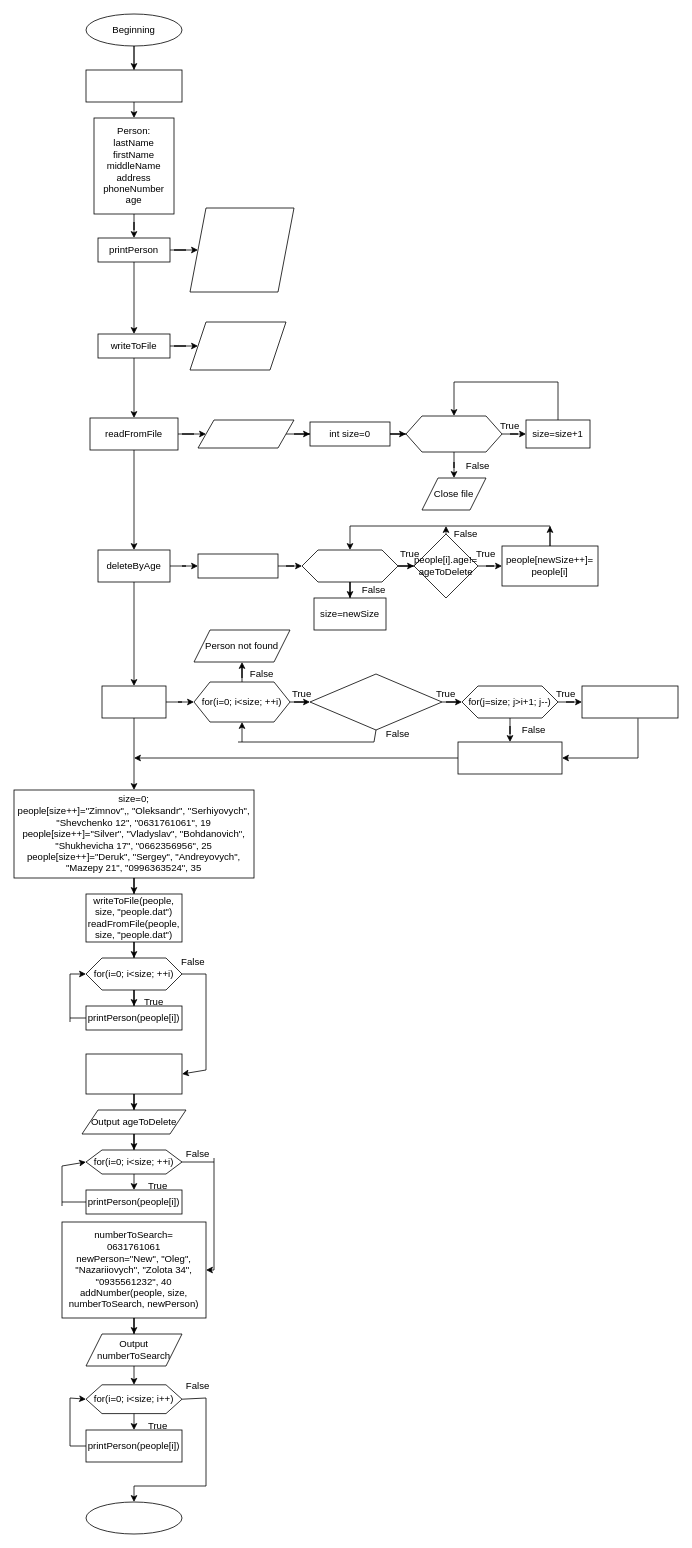
The diagram is 692 pixels wide and 1548 high, and some of its shapes have lost their labels. Here are the shapes that lost their labels. From the top down, the centre of each, then its label:
At (x=133, y=85): "const MAX_PEOPLE=100".
At (x=241, y=249): "Output lastName firstName middleName address phoneNumber age".
At (x=237, y=345): "Input Person in file".
At (x=245, y=433): "Read from file".
At (x=453, y=433): "for(int i=0; i< sizeOfPerosn; i++)".
At (x=237, y=565): "int newSize=0".
At (x=349, y=565): "for(int i=0; i< size; ++i)".
At (x=133, y=701): "addNumber".
At (x=375, y=701): "people[i].phoneNumber =numberToSearch".
At (x=629, y=701): "people[j]=people[j-1]".
At (x=509, y=757): "people[i+1]=newPerson size=size+1".
At (x=133, y=1073): "ageToDelete=35 deleteByAge(people, size, ageToDelete)".
At (x=133, y=1517): "End".
